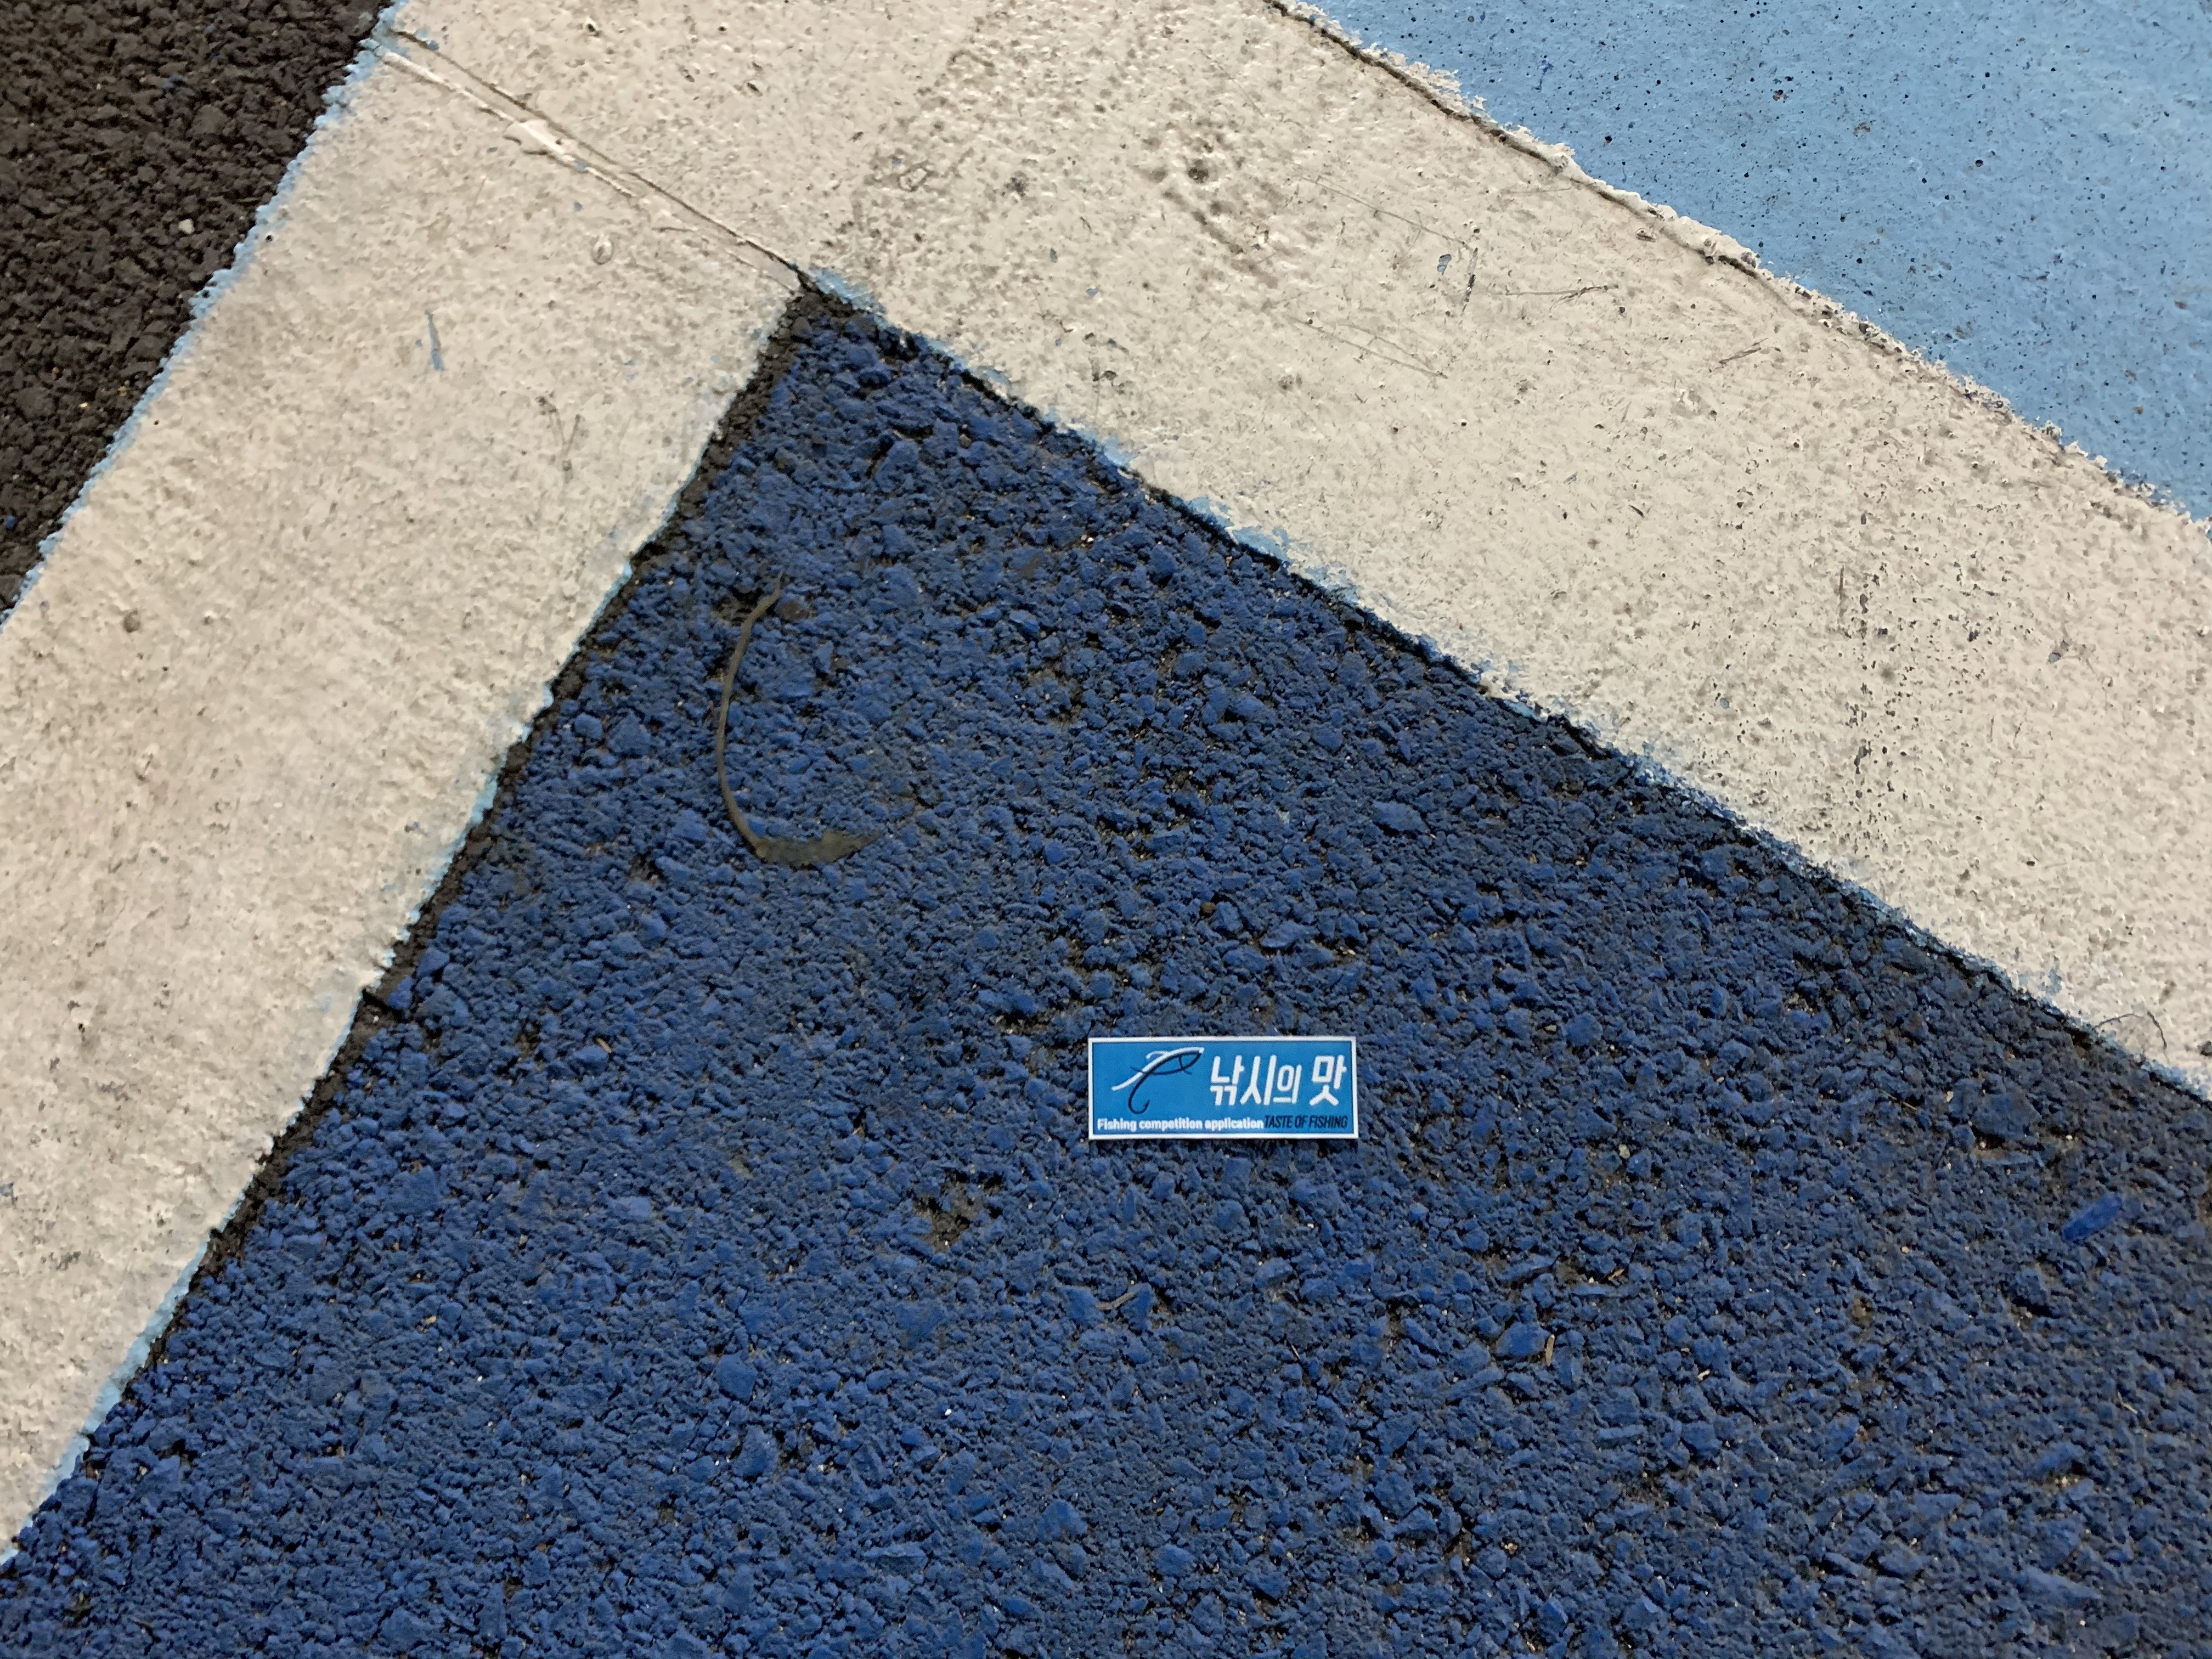tag: (1090, 1039, 1359, 1140)
